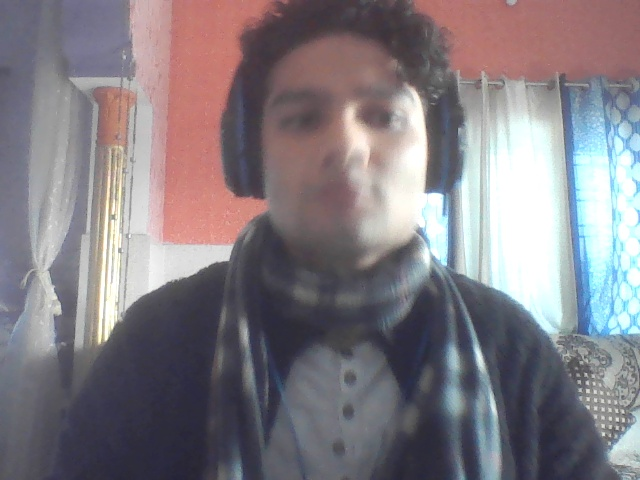real: (236, 0, 442, 292)
